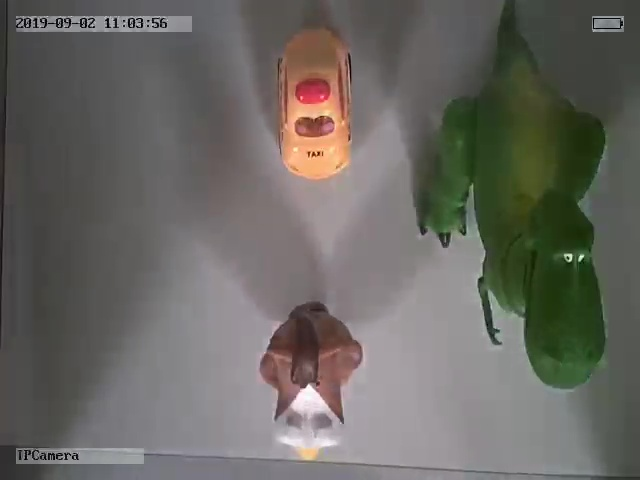car: (272, 24, 356, 180)
horse: (259, 301, 363, 460)
rex: (419, 10, 606, 388)
